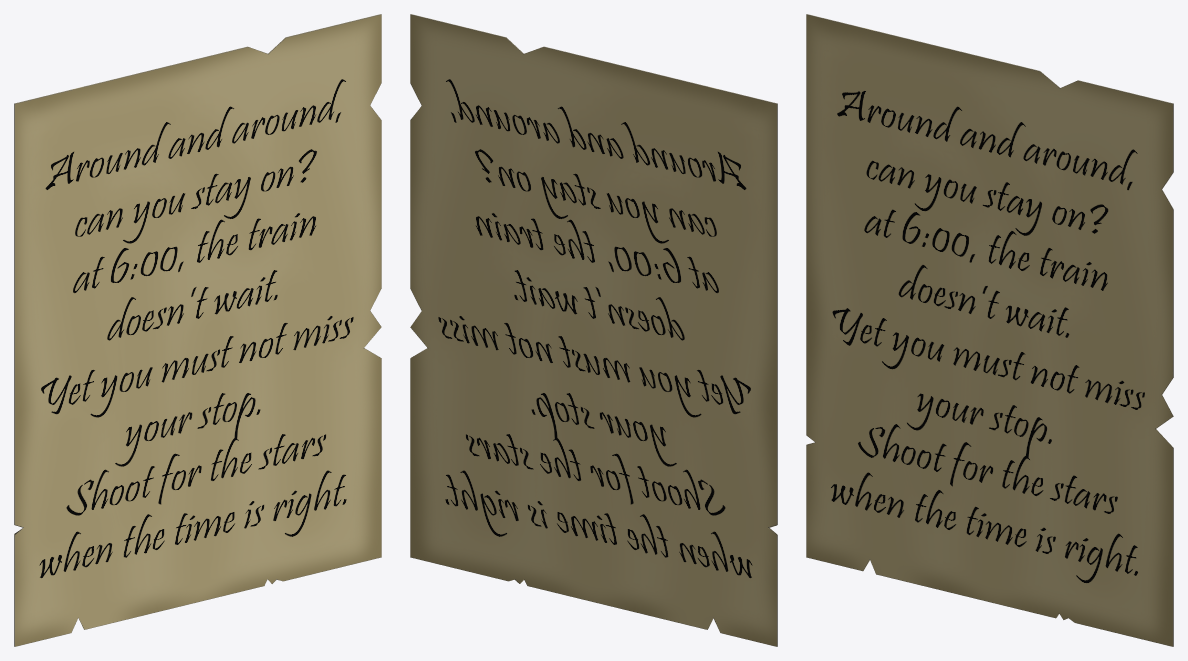
The model's file is p_note_5.fbx.
3 renders of one model, left to right at view 1: azimuth 30°, elevation 25°; view 2: azimuth 150°, elevation 25°; view 3: azimuth 330°, elevation 25°, orthographic.
Parts seen in each view (by area): view 1: pCube1; view 2: pCube1; view 3: pCube1.
Part boxes in pixels (box(x1,y1,x2,y2)): pCube1: box(14, 14, 381, 646); pCube1: box(410, 14, 777, 646); pCube1: box(806, 14, 1173, 646).
Size of the model in its own units: 42 by 59.4 by 0.1135.
